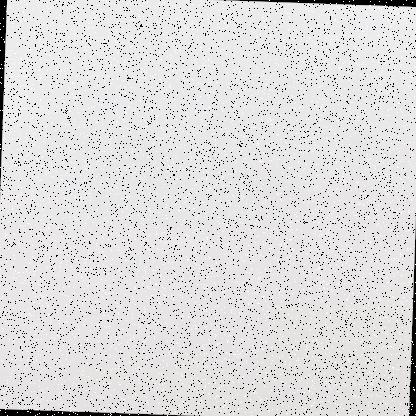Nocrack: (9, 7, 410, 415)
